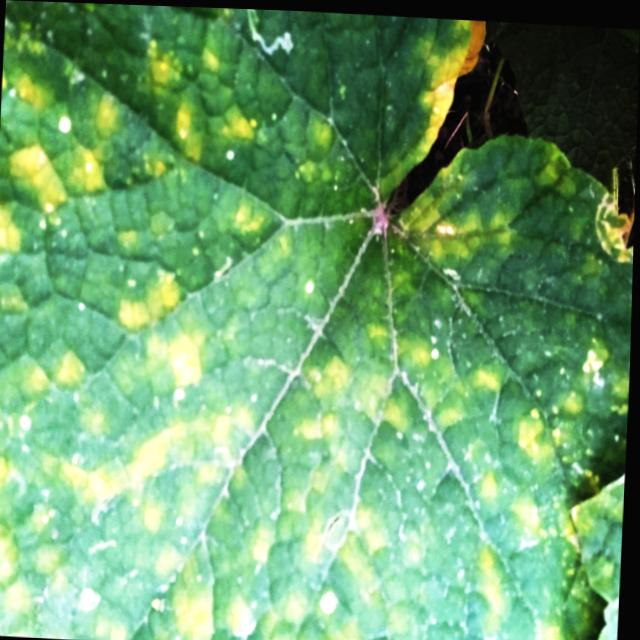Downy-Mildew: (0, 0, 633, 640)
